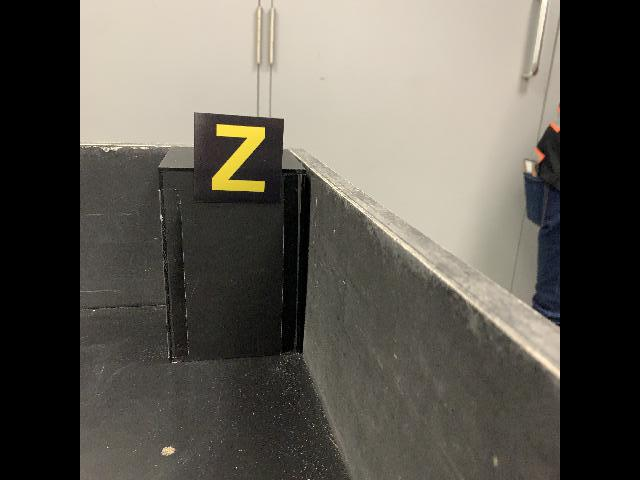z: (191, 111, 286, 206)
